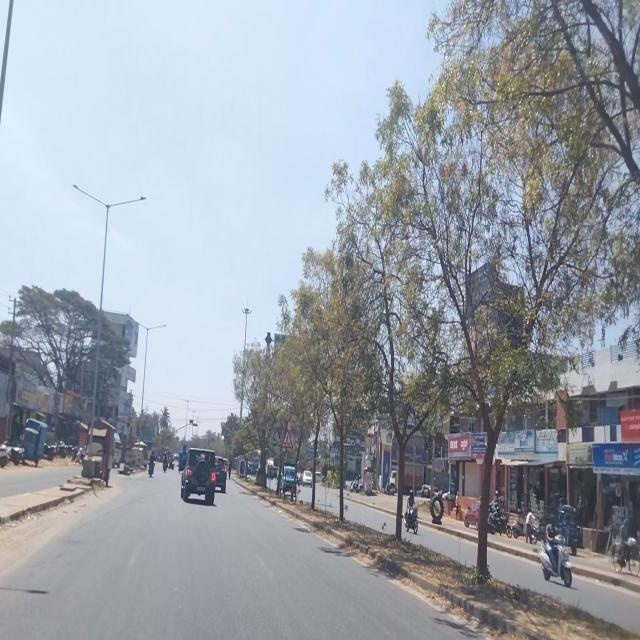bien_nguy_hiem: (280, 429, 293, 448)
